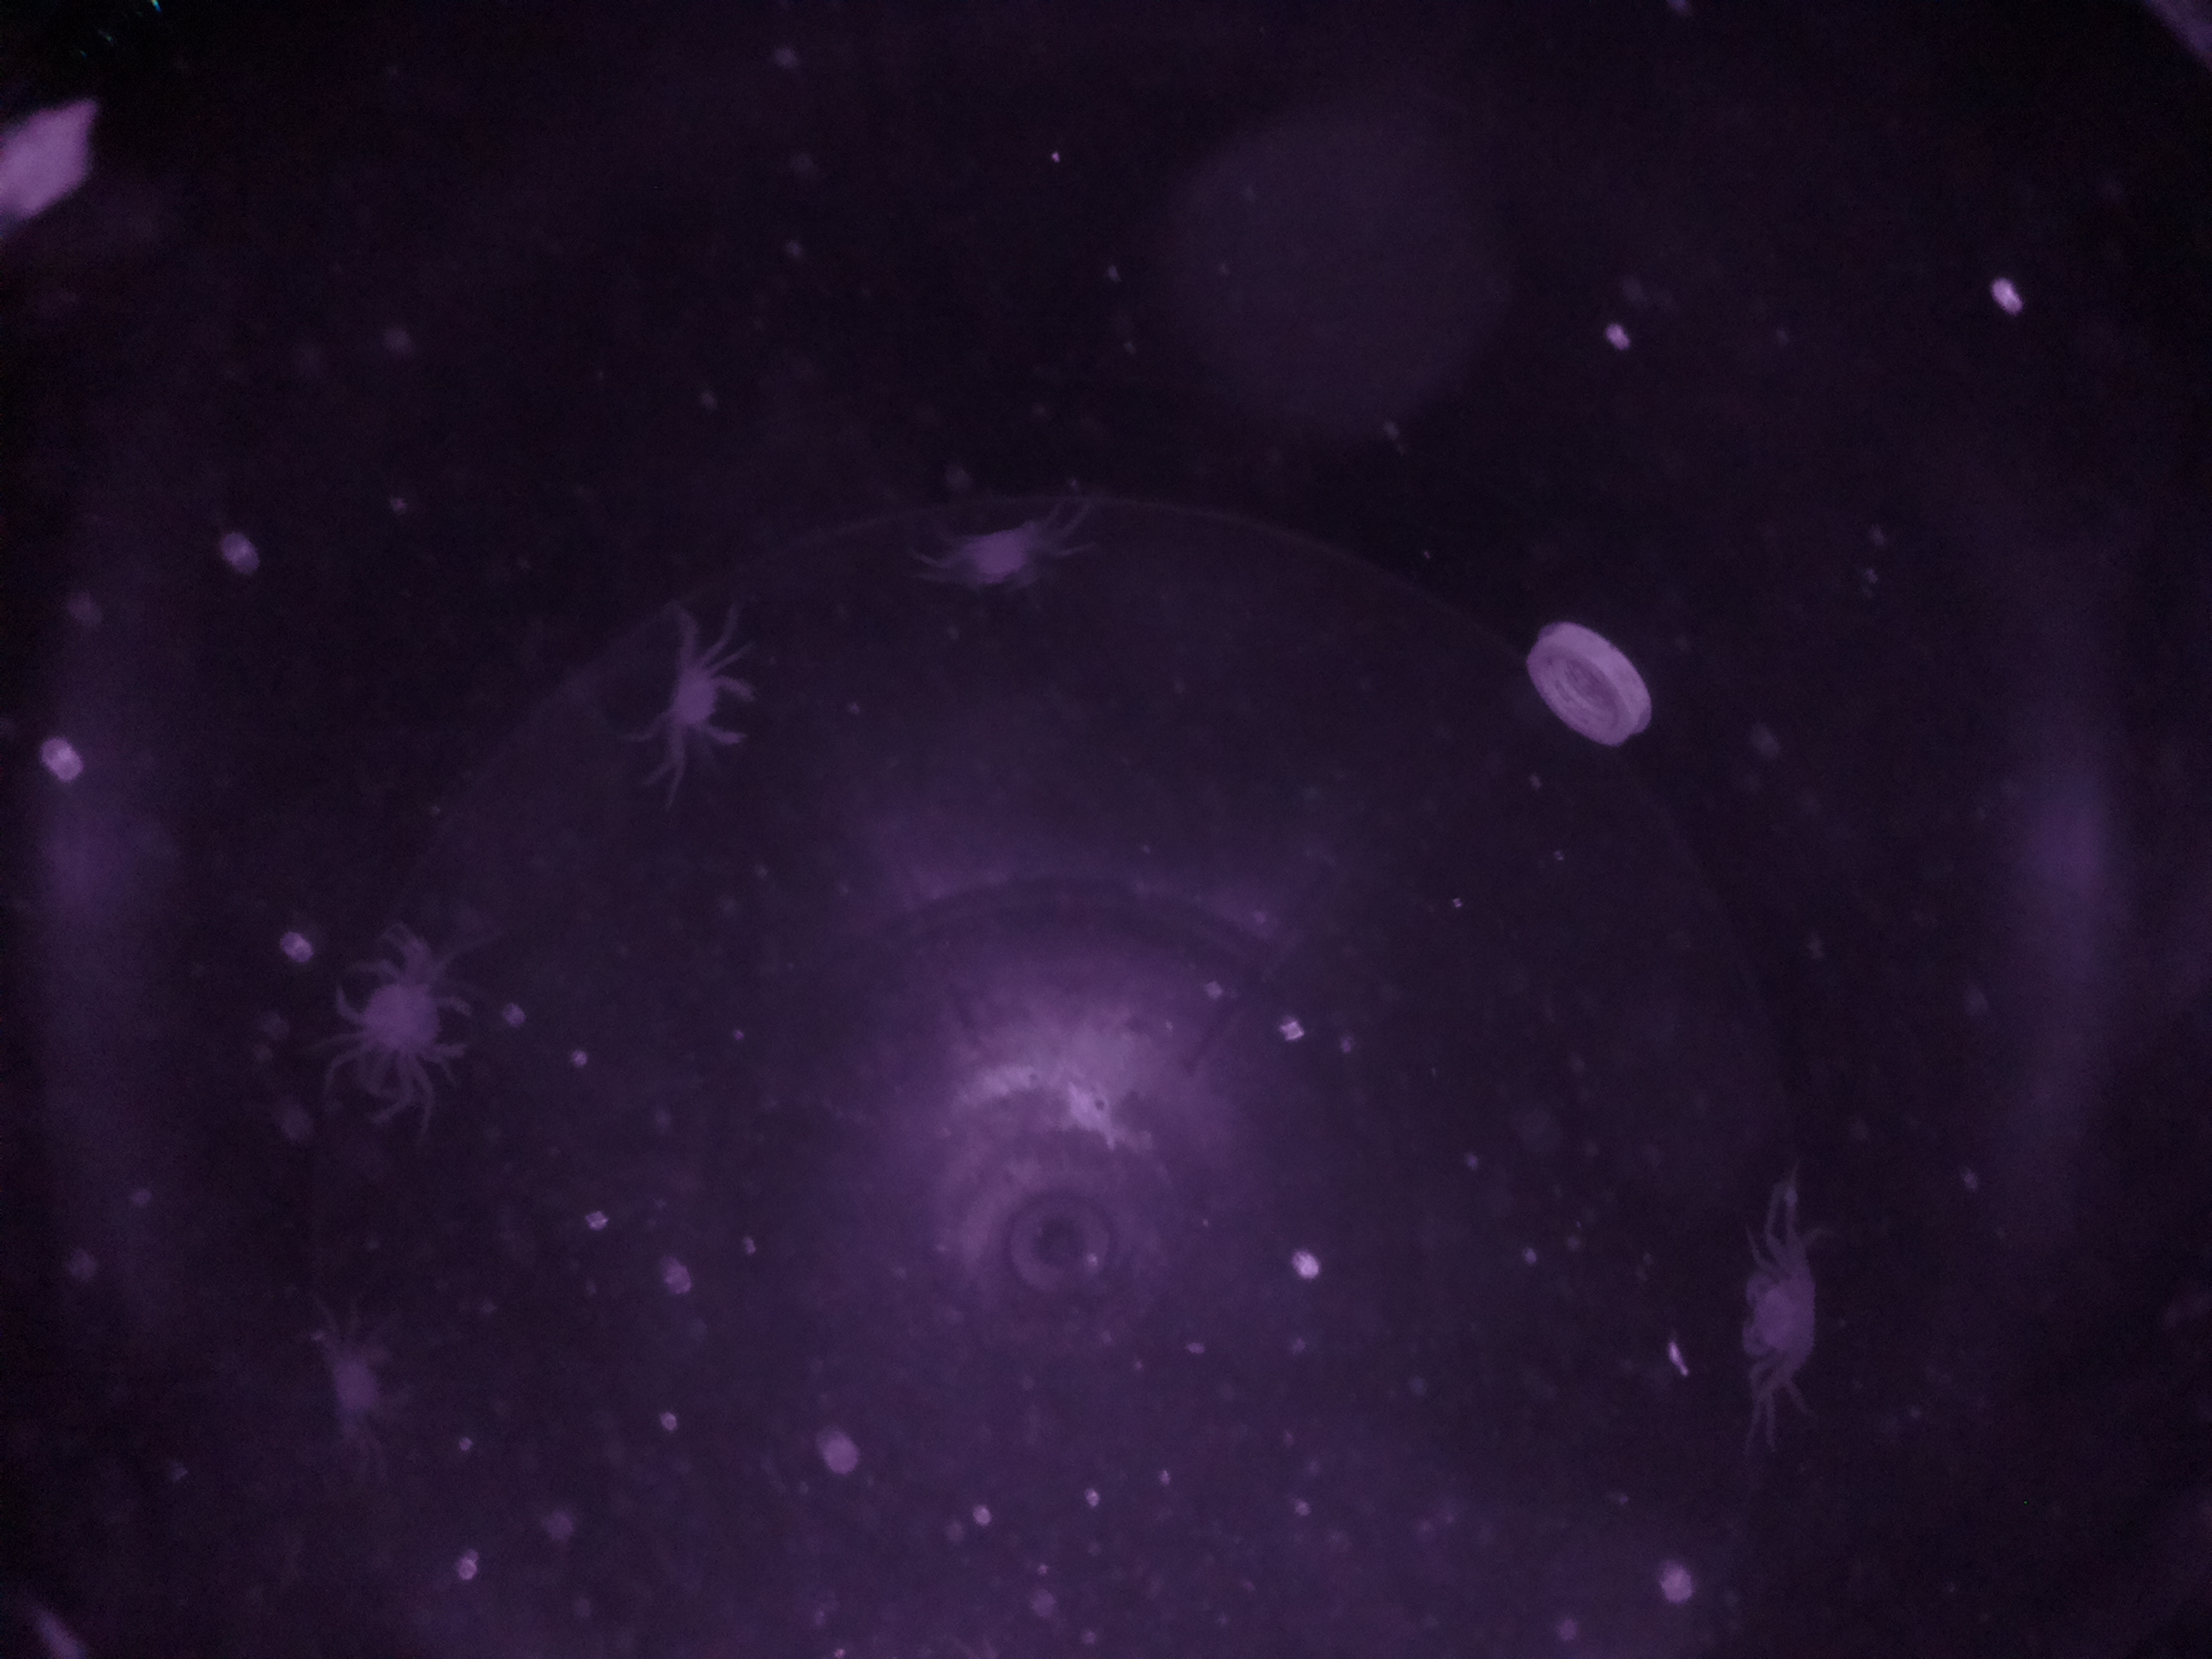Crab: (1719, 1241, 1831, 1378), (648, 645, 775, 763)
